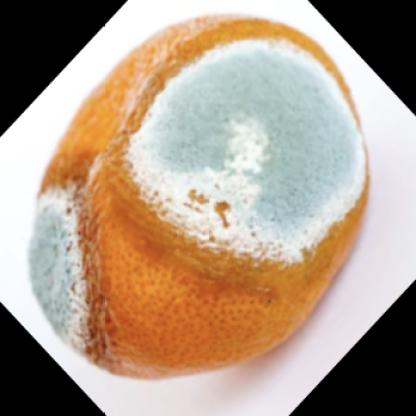rotten: (28, 16, 370, 376)
